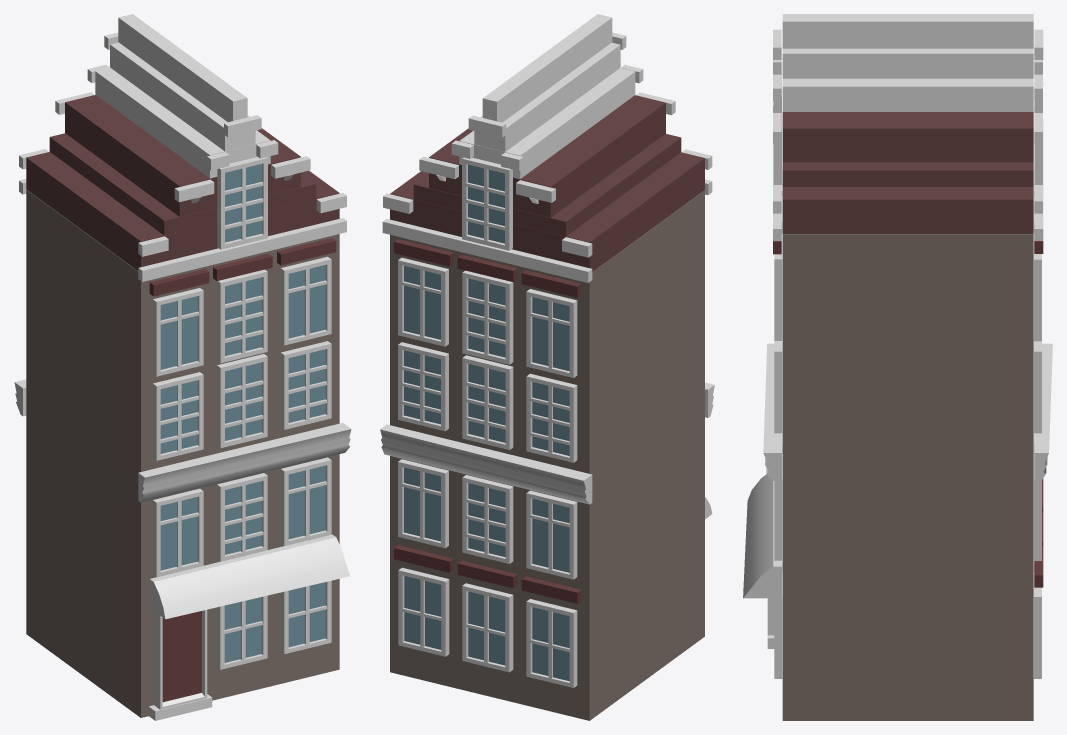
The model's file is HUB_Bld_Side_03.fbx.
3 views of the same model, side by side, from view 1: azimuth 30°, elevation 25°; view 2: azimuth 150°, elevation 25°; view 3: azimuth 270°, elevation 25° (orthographic). The views are drawn at different scales.
Parts seen in each view (by area): view 1: Side_03; view 2: Side_03; view 3: Side_03.
Part boxes in pixels (bbox=[...]): Side_03: bbox=[14, 14, 351, 720]; Side_03: bbox=[380, 14, 714, 720]; Side_03: bbox=[743, 14, 1052, 720].
Size of the model in its own units: 1718 by 4766 by 2059.
